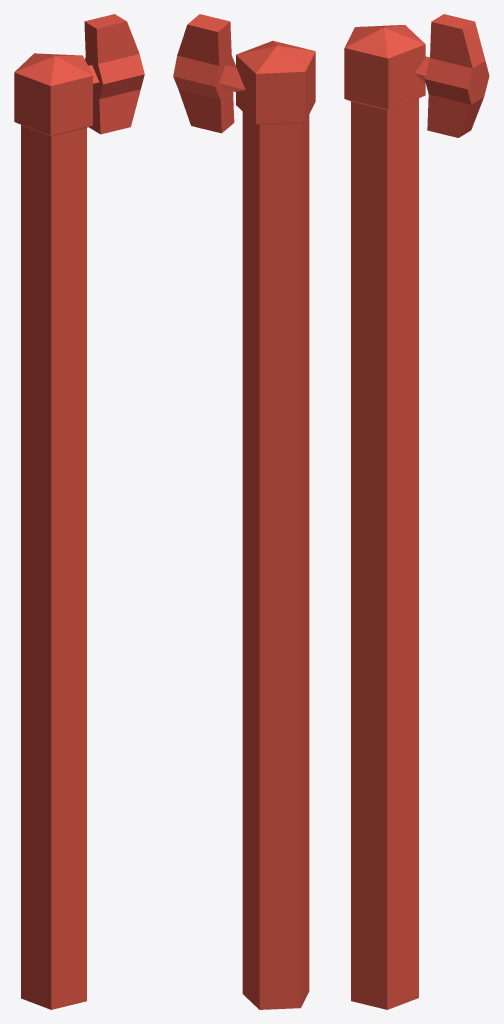
File: SM_Tripod_Universal_Arm_B.fbx
The picture shows the model from 3 angles, left to right: view 1: azimuth 30°, elevation 25°; view 2: azimuth 150°, elevation 25°; view 3: azimuth 330°, elevation 25°; orthographic projection. The views are drawn at different scales.
Parts seen in each view (by area): view 1: SM_Tripod_Universal_Arm_B; view 2: SM_Tripod_Universal_Arm_B; view 3: SM_Tripod_Universal_Arm_B.
Part boxes in pixels (left/top/right/bottom): SM_Tripod_Universal_Arm_B: left=14, top=14, right=144, bottom=1009; SM_Tripod_Universal_Arm_B: left=173, top=14, right=315, bottom=1009; SM_Tripod_Universal_Arm_B: left=344, top=14, right=489, bottom=1009.
Size of the model in its own units: 3.57 by 6.54 by 49.73.
